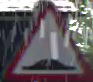Speed Breaker ahead: (5, 2, 90, 81)
